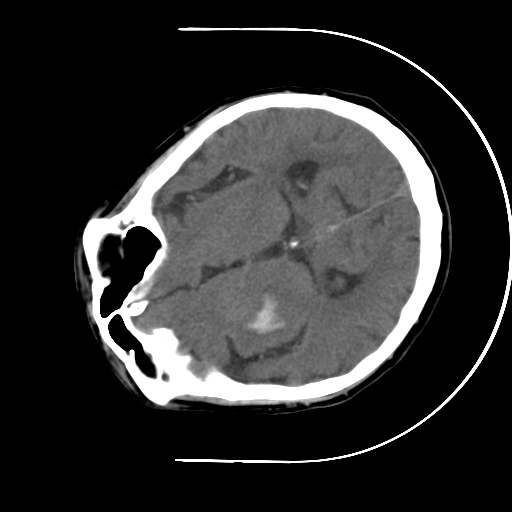a: (225, 273, 300, 350)
